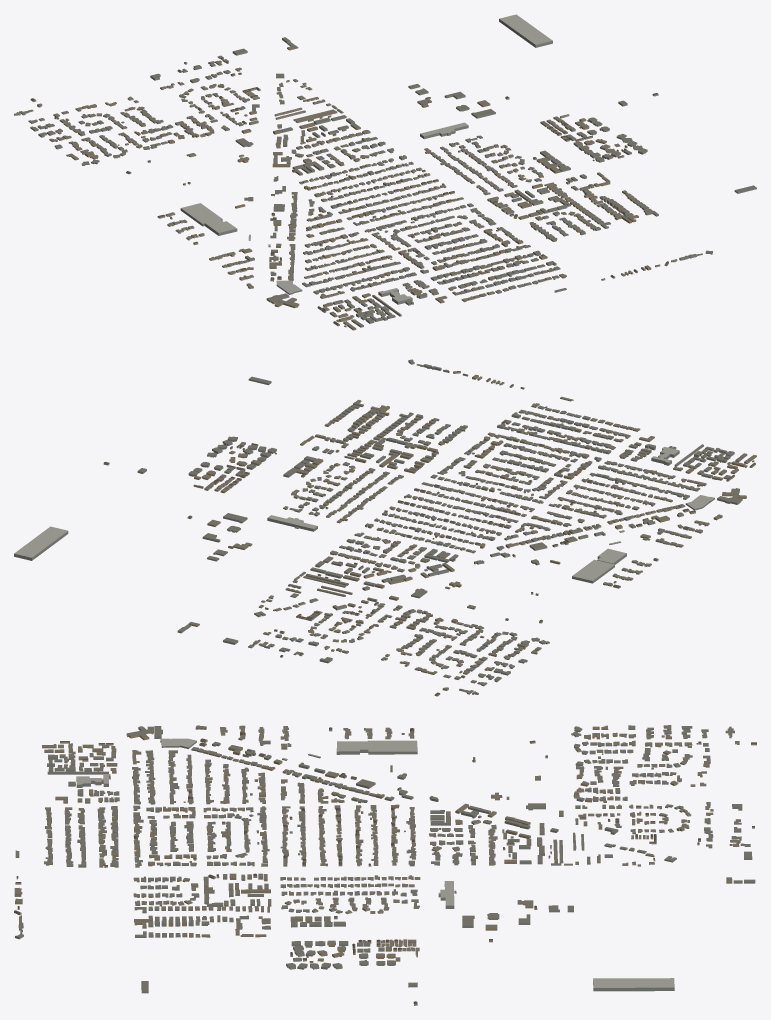
The model's file is BuildingsFar.glb.
The picture shows the model from 3 angles, top to bottom: view 1: azimuth 30°, elevation 25°; view 2: azimuth 150°, elevation 25°; view 3: azimuth 270°, elevation 25°; orthographic projection. The views are drawn at different scales.
Parts seen in each view (by area): view 1: BuildingsFar; view 2: BuildingsFar; view 3: BuildingsFar.
Boxes of the visible parts, x1=… form: BuildingsFar: x1=14, y1=14, x2=756, y2=330; BuildingsFar: x1=14, y1=359, x2=756, y2=696; BuildingsFar: x1=14, y1=725, x2=756, y2=1005.
Size of the model in its own units: 1787 by 12.1 by 2011.
